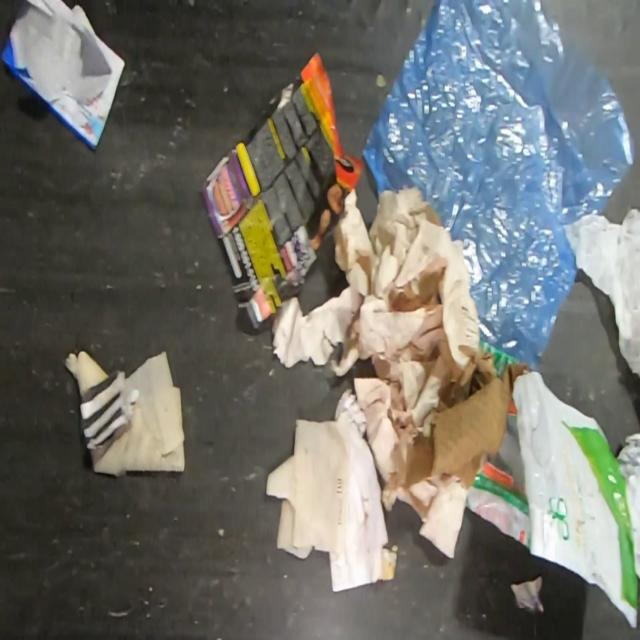cardboard: (421, 337, 532, 548)
soft_plastic: (361, 0, 635, 370), (512, 370, 638, 630)
